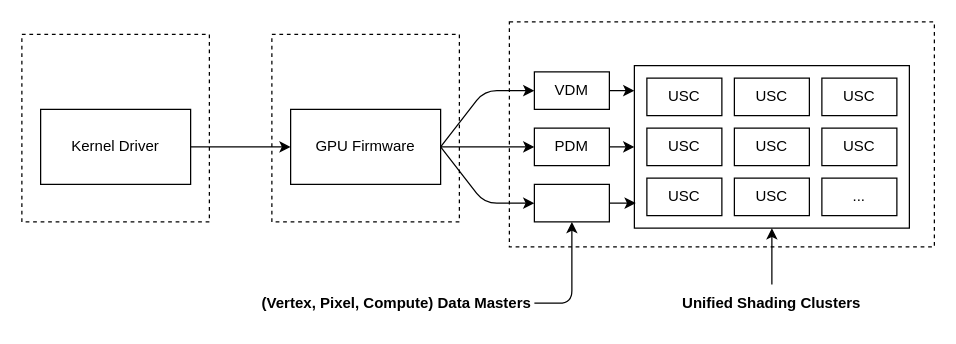
Some shapes in this 956 by 344 pixel diagram are drawn without their labels. The shapes that lost their labels are listed below. From the top down, each one's box as (x1, y1, x2, y2) in pixels, then its label:
(21, 33, 209, 222): CPU
(271, 33, 459, 222): GPU Coprocessor
(508, 21, 934, 247): GPU Hardware
(533, 183, 609, 222): CDM
